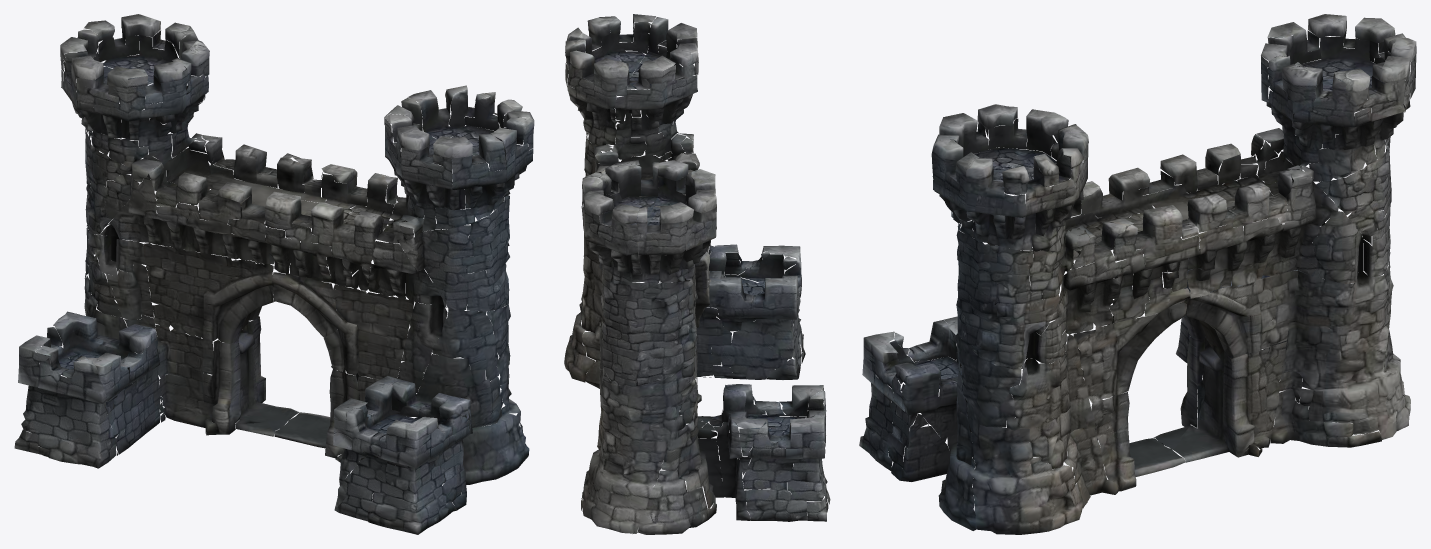
File: gatehouse.glb
3 views of the same model, side by side, from view 1: azimuth 30°, elevation 25°; view 2: azimuth 150°, elevation 25°; view 3: azimuth 270°, elevation 25° (orthographic). The views are drawn at different scales.
Visible parts, largest first — view 1: tripo_node_1d176987-f146-485e-ad78-a66037c28f3b; view 2: tripo_node_1d176987-f146-485e-ad78-a66037c28f3b; view 3: tripo_node_1d176987-f146-485e-ad78-a66037c28f3b.
Part boxes in pixels (x1,y1,x2,y2): tripo_node_1d176987-f146-485e-ad78-a66037c28f3b: (14, 14, 534, 534); tripo_node_1d176987-f146-485e-ad78-a66037c28f3b: (564, 14, 830, 534); tripo_node_1d176987-f146-485e-ad78-a66037c28f3b: (859, 14, 1416, 534).
Size of the model in its own units: 0.8671 by 0.7301 by 0.9999.
1 material, 1 textured.
